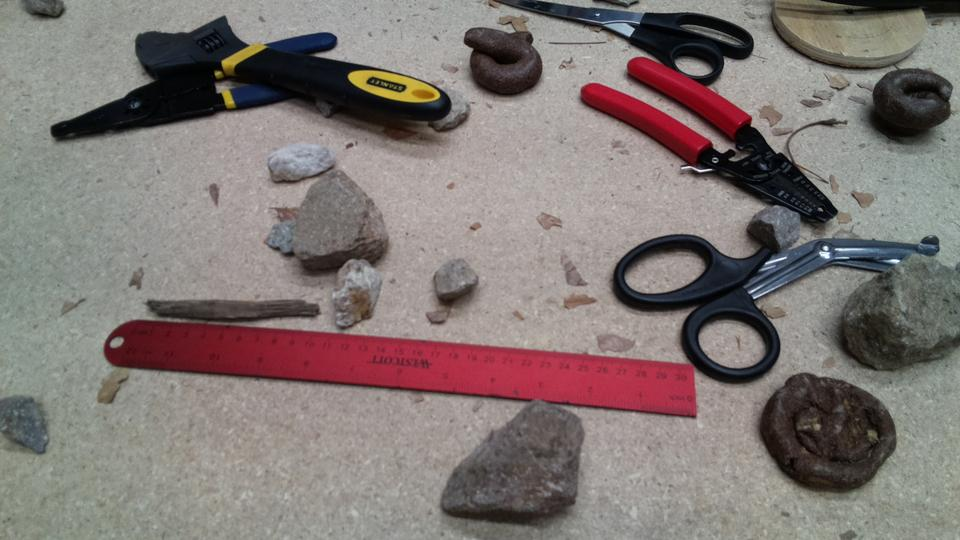poop: (757, 367, 902, 497), (871, 64, 956, 138), (462, 24, 545, 99)
